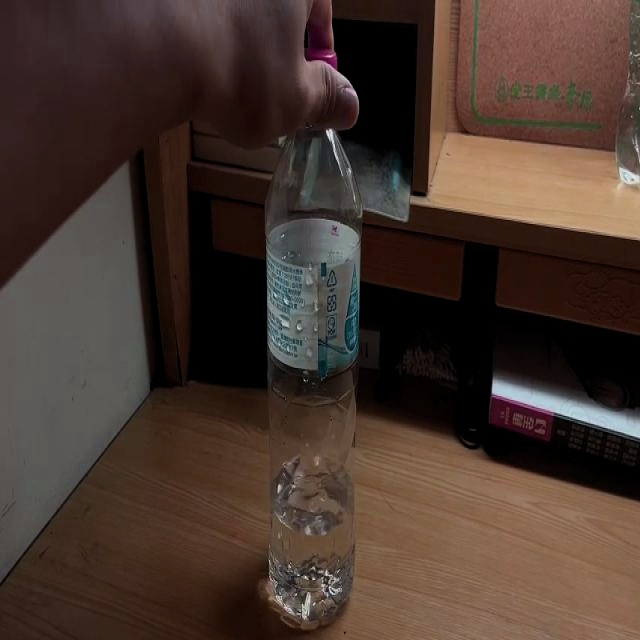Water: (263, 43, 361, 628)
